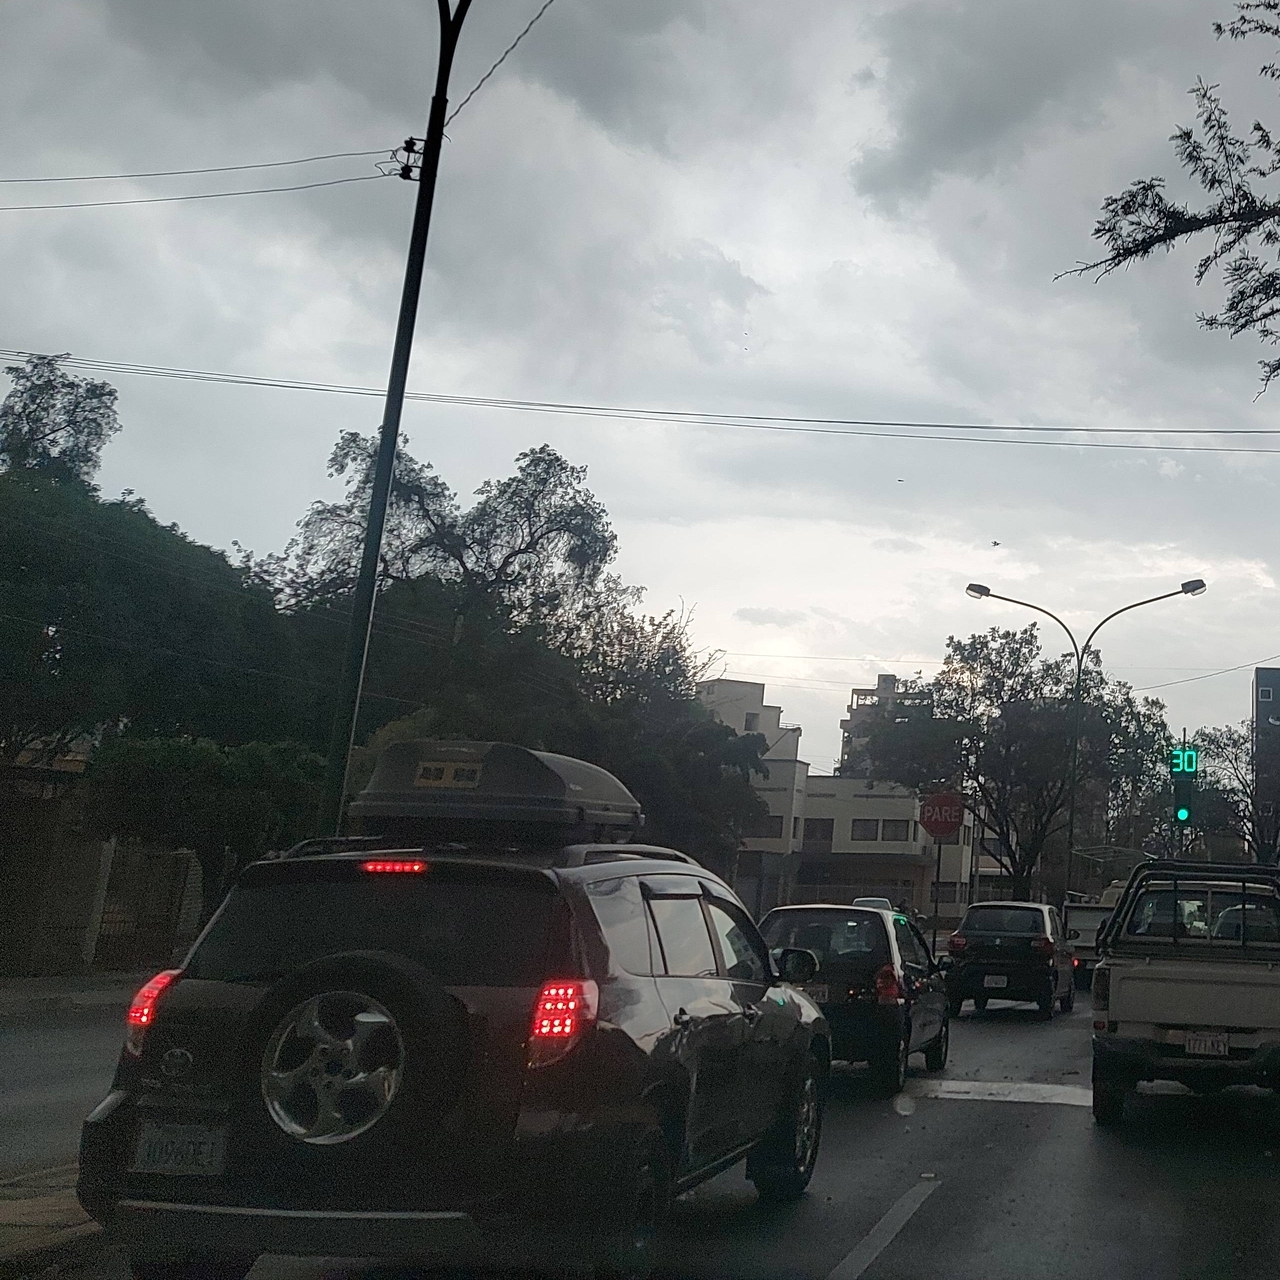pare: (918, 790, 966, 844)
